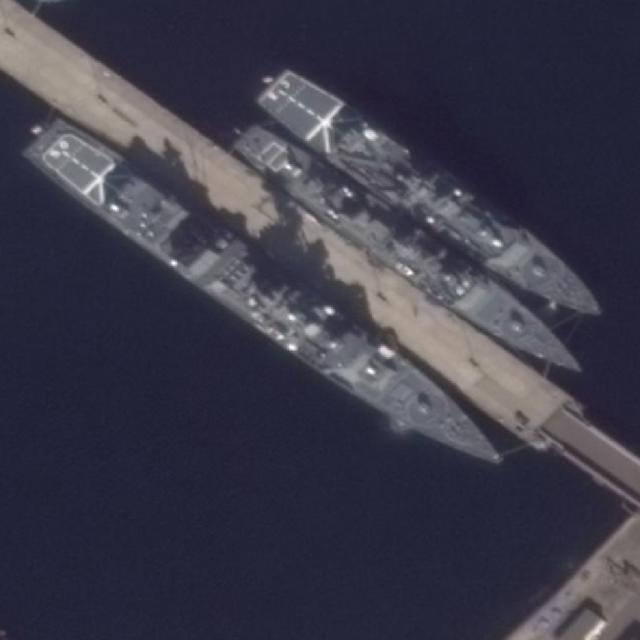Destroyer: (19, 103, 518, 486), (227, 114, 593, 393), (253, 61, 612, 339)
